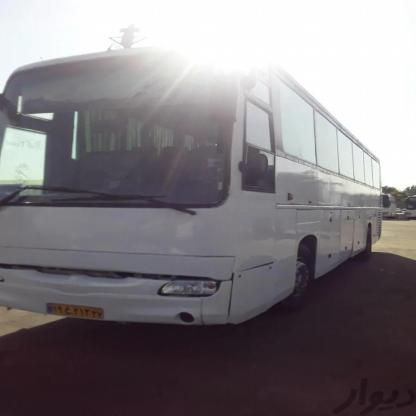Bus: (0, 37, 397, 325)
